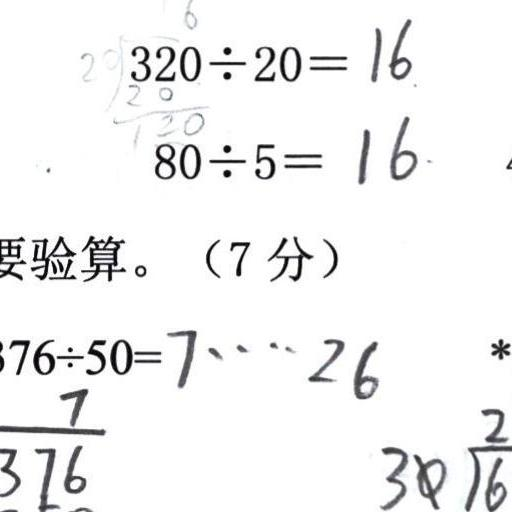ans: (163, 322, 381, 401), (349, 111, 417, 184), (363, 14, 413, 82)
